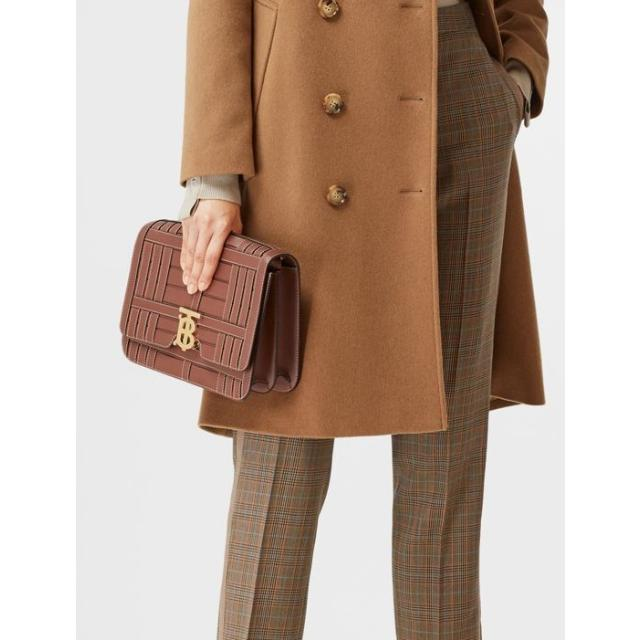wool: (190, 1, 564, 210)
